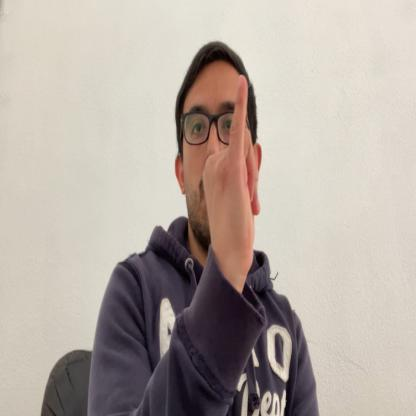I: (203, 75, 260, 277)
